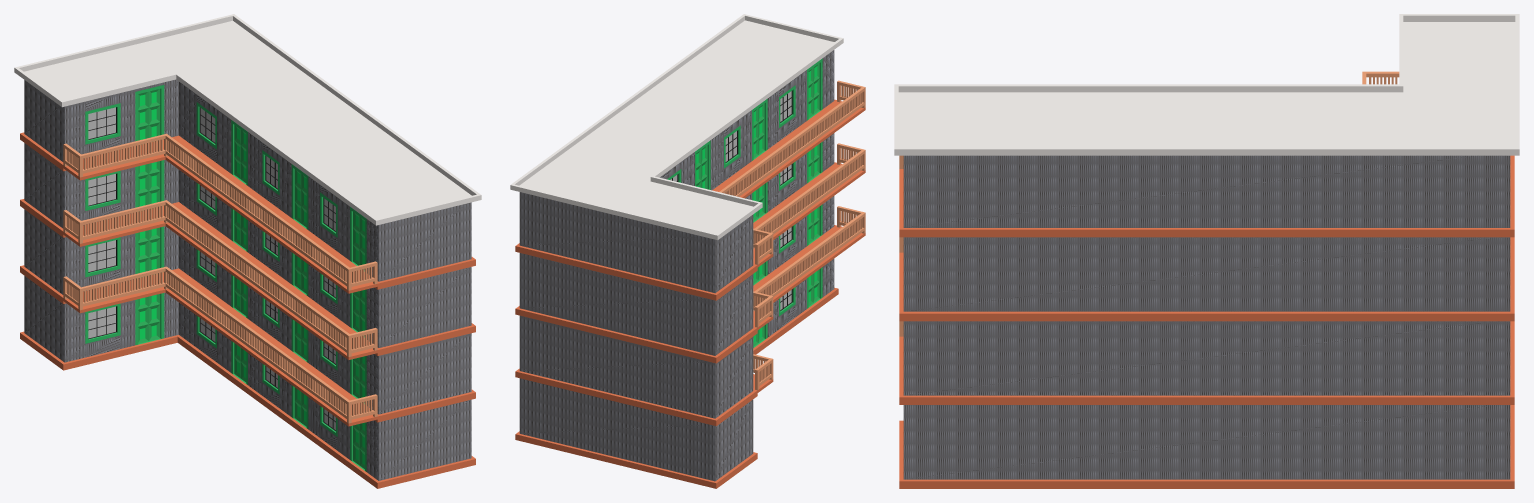
Rendered from Flat Roof 1.fbx.
3 renders of one model, left to right at view 1: azimuth 30°, elevation 25°; view 2: azimuth 150°, elevation 25°; view 3: azimuth 270°, elevation 25°, orthographic. The views are drawn at different scales.
Parts seen in each view (by area): view 1: building_003; view 2: building_003; view 3: building_003.
Boxes of the visible parts, bbox=[...] form: building_003: bbox=[14, 14, 481, 488]; building_003: bbox=[510, 14, 865, 488]; building_003: bbox=[894, 14, 1519, 488].
Bounding box in the file's own units: 762 × 896 × 1486.
Materials: 10 (1 with a texture image).
